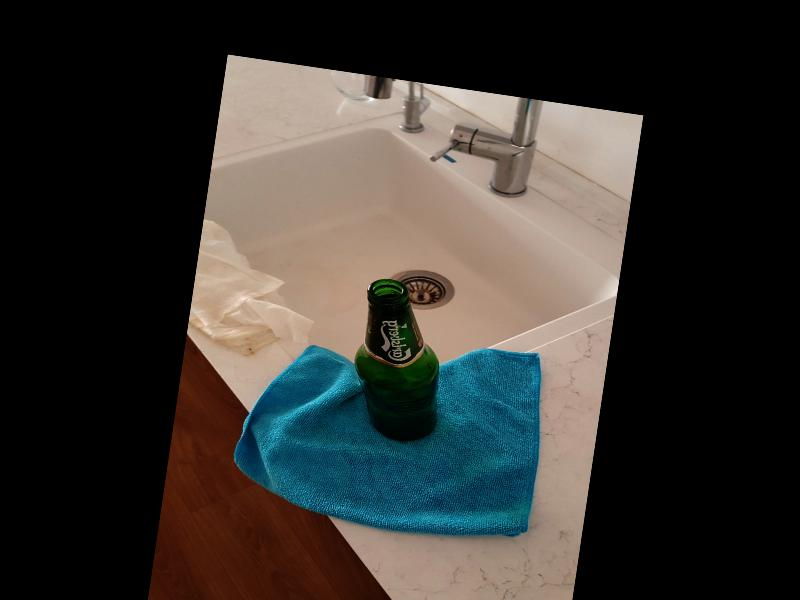Beer: (343, 277, 453, 447)
